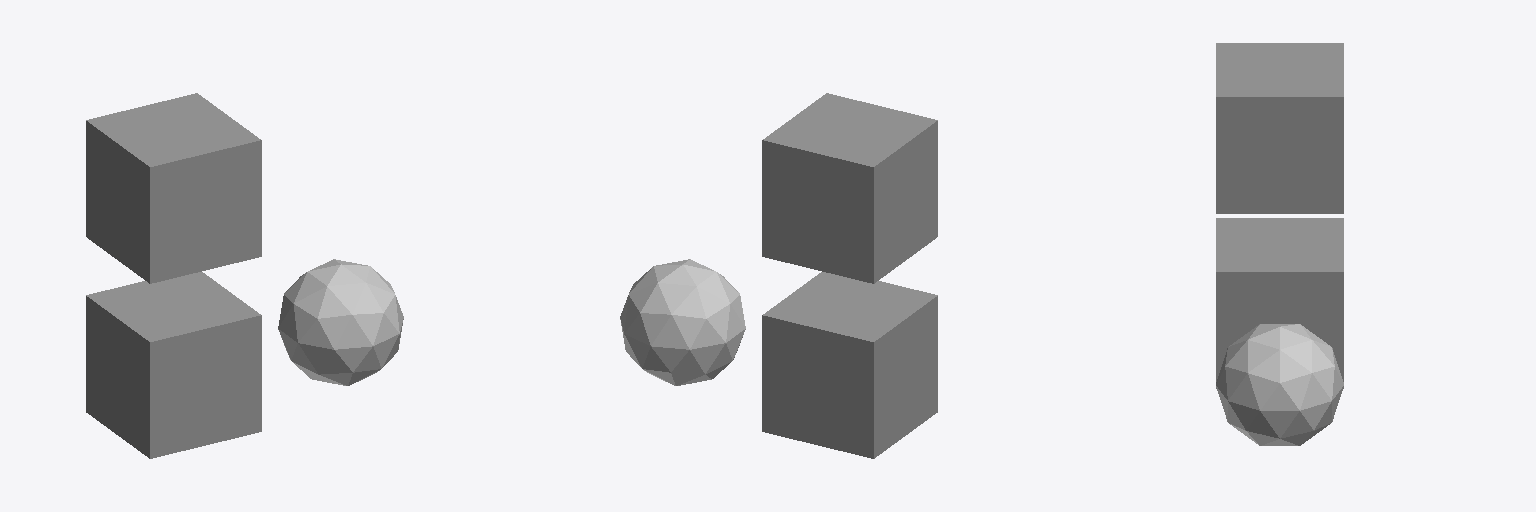
Rendered from 2cubes1sphere.obj.
The picture shows the model from 3 angles: view 1: azimuth 30°, elevation 25°; view 2: azimuth 150°, elevation 25°; view 3: azimuth 270°, elevation 25°; orthographic projection.
Parts seen in each view (by area): view 1: Cube.001, Cube, Icosphere; view 2: Cube.001, Cube, Icosphere; view 3: Cube.001, Cube, Icosphere.
Part boxes in pixels (x1,y1,x2,y2): Cube.001: (86,93,261,283); Cube: (86,272,261,458); Icosphere: (278,259,403,385); Cube.001: (762,93,937,283); Cube: (762,272,937,458); Icosphere: (620,259,745,385); Cube.001: (1216,43,1343,213); Cube: (1216,218,1343,388); Icosphere: (1216,324,1343,445).
Size of the model in its own units: 4.95 by 5 by 2.